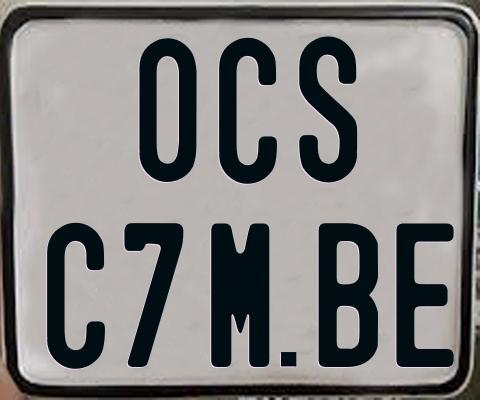0: (138, 38, 197, 184)
7: (124, 222, 188, 370)
B: (316, 221, 378, 366)
C: (45, 220, 107, 370), (216, 35, 275, 182)
E: (395, 220, 459, 367)
M: (209, 222, 273, 372)
S: (296, 36, 360, 184)
